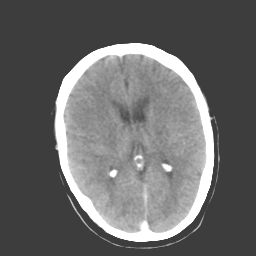ischemic: (68, 105, 116, 155)
